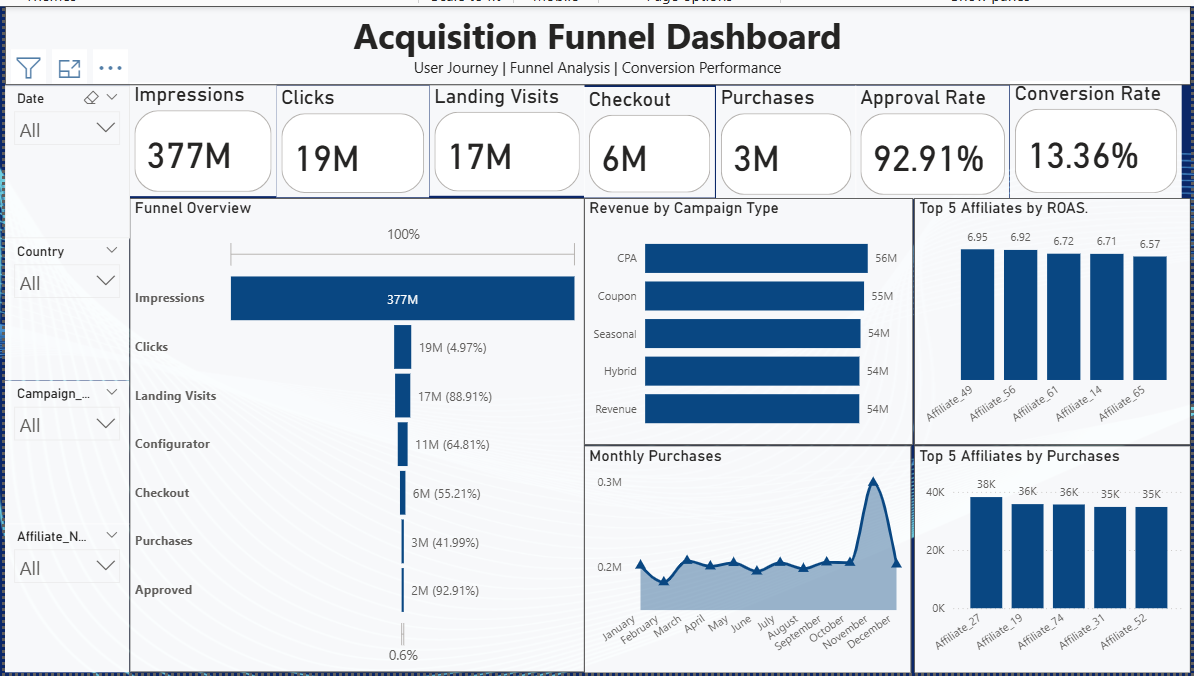

The dashboard page shown, as its layout file describes it:
{"tool":"powerbi","page":{"name":"Acquisition Funnel","canvas":[1280,720],"ordinal":2},"visuals":[{"type":"cardVisual","title":"Impressions","fields":{"Data":["Sum(Sheet1.Impressions)"]},"box":[134.2,83.2,158.7,122.8],"z":0},{"type":"cardVisual","title":"Clicks","fields":{"Data":["Sum(Sheet1.Clicks)"]},"box":[292.9,85,164.4,120.9],"z":1000},{"type":"cardVisual","title":"Landing Visits","fields":{"Data":["Sum(Sheet1.Landing_Page_Visits)"]},"box":[458.1,84.3,167,120.9],"z":2000},{"type":"cardVisual","title":"Checkout","fields":{"Data":["Sum(Sheet1.Checkout_Starts)"]},"box":[625.1,87.5,141.6,119.3],"z":3000},{"type":"cardVisual","title":"Purchases","fields":{"Data":["Sum(Sheet1.Purchases)"]},"box":[767.2,85,151.2,122.8],"z":4000},{"type":"cardVisual","title":"Conversion Rate","fields":{"Data":["Sheet1.Overall Conversion Rate"]},"box":[1084.7,81.3,185.2,126.6],"z":5000},{"type":"cardVisual","title":"Approval Rate","fields":{"Data":["Sheet1.Approval Rate"]},"box":[918.4,85,166.3,122.8],"z":6000},{"type":"funnel","title":"Funnel Overview","fields":{"Y":["Sum(Sheet1.Impressions)","Sum(Sheet1.Clicks)","Sum(Sheet1.Landing_Page_Visits)","Sum(Sheet1.Wallet_Configurator_Visits)","Sum(Sheet1.Checkout_Starts)","Sum(Sheet1.Purchases)","Sum(Sheet1.Approved_Conversions)"]},"box":[134.2,207.9,491.3,512.1],"z":7000},{"type":"columnChart","title":"Top 5 Affiliates by ROAS.","fields":{"Category":["Sheet1.Affiliate_Name"],"Y":["Sheet1.ROAS Ratio"]},"box":[980.8,207.9,298.6,266.5],"z":8000},{"type":"columnChart","title":"Top 5 Affiliates by Purchases","fields":{"Category":["Sheet1.Affiliate_Name"],"Y":["Sum(Sheet1.Purchases)"]},"box":[980.8,474.3,298.6,245.7],"z":9000},{"type":"textbox","box":[0,0,1280,85],"z":10000},{"type":"barChart","title":"Revenue by Campaign Type","fields":{"Category":["Sheet1.Campaign_Type"],"Y":["Sum(Sheet1.Net_Revenue)"]},"box":[625.5,207.9,355.3,266.5],"z":12000},{"type":"lineChart","title":"Monthly Purchases","fields":{"Category":["Sheet1.Date.Variation.Date Hierarchy.Month"],"Y":["Sum(Sheet1.Purchases)"]},"box":[625.5,474.3,353.4,245.7],"z":12001},{"type":"slicer","fields":{"Values":["Sheet1.Date.Variation.Date Hierarchy.Year","Sheet1.Date.Variation.Date Hierarchy.Quarter","Sheet1.Date.Variation.Date Hierarchy.Month","Sheet1.Date.Variation.Date Hierarchy.Day"]},"box":[0,85,134.2,166.3],"z":12002},{"type":"slicer","fields":{"Values":["Sheet1.Country"]},"box":[0,251.3,134.2,153.1],"z":12003},{"type":"slicer","fields":{"Values":["Sheet1.Campaign_Type"]},"box":[0,404.4,134.2,155],"z":12004},{"type":"slicer","fields":{"Values":["Sheet1.Affiliate_Network"]},"box":[0,559.4,134.2,160.6],"z":12005}]}

Visuals, with their boxes in screenshot pixels (x1, y1, x2, y2):
"Impressions" cardVisual: {"x1": 127, "y1": 83, "x2": 273, "y2": 196}
"Clicks" cardVisual: {"x1": 273, "y1": 84, "x2": 424, "y2": 196}
"Landing Visits" cardVisual: {"x1": 425, "y1": 84, "x2": 578, "y2": 195}
"Checkout" cardVisual: {"x1": 578, "y1": 87, "x2": 708, "y2": 196}
"Purchases" cardVisual: {"x1": 709, "y1": 84, "x2": 848, "y2": 197}
"Conversion Rate" cardVisual: {"x1": 1001, "y1": 81, "x2": 1171, "y2": 197}
"Approval Rate" cardVisual: {"x1": 848, "y1": 84, "x2": 1001, "y2": 197}
"Funnel Overview" funnel: {"x1": 127, "y1": 197, "x2": 579, "y2": 669}
"Top 5 Affiliates by ROAS." columnChart: {"x1": 905, "y1": 197, "x2": 1180, "y2": 443}
"Top 5 Affiliates by Purchases" columnChart: {"x1": 905, "y1": 443, "x2": 1180, "y2": 669}
textbox: {"x1": 3, "y1": 6, "x2": 1181, "y2": 84}
"Revenue by Campaign Type" barChart: {"x1": 579, "y1": 197, "x2": 905, "y2": 443}
"Monthly Purchases" lineChart: {"x1": 579, "y1": 443, "x2": 904, "y2": 669}
slicer - Sheet1.Date.Variation.Date Hierarchy.Year x Sheet1.Date.Variation.Date Hierarchy.Quarter: {"x1": 3, "y1": 84, "x2": 127, "y2": 237}
slicer - Sheet1.Country: {"x1": 3, "y1": 237, "x2": 127, "y2": 378}
slicer - Sheet1.Campaign_Type: {"x1": 3, "y1": 378, "x2": 127, "y2": 521}
slicer - Sheet1.Affiliate_Network: {"x1": 3, "y1": 521, "x2": 127, "y2": 669}
